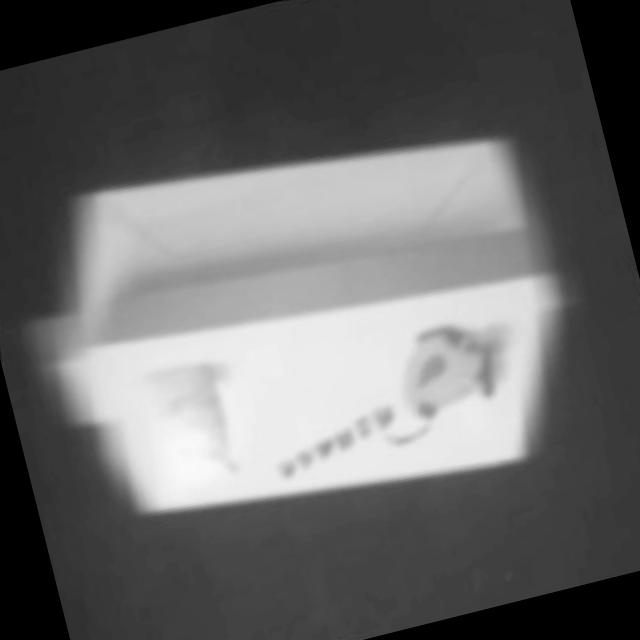box: (5, 58, 618, 584)
